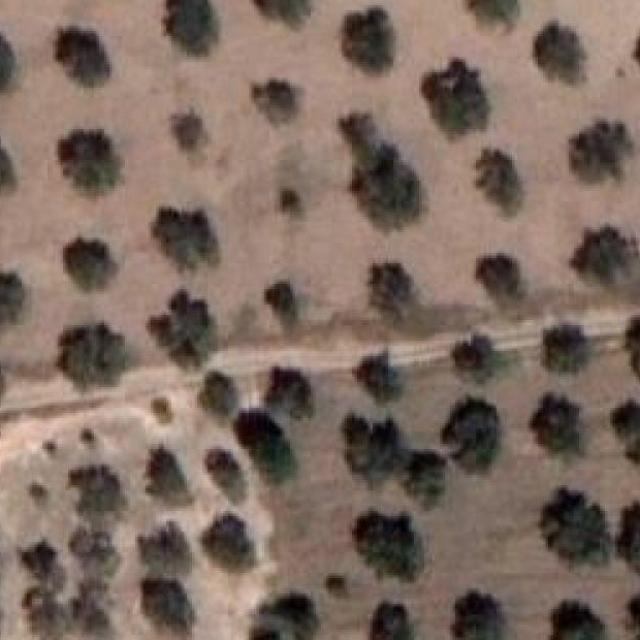Tree: (352, 154, 426, 228), (352, 506, 428, 578), (336, 416, 406, 491), (55, 320, 129, 389), (439, 395, 502, 474), (236, 408, 298, 488), (424, 62, 490, 136), (58, 129, 125, 197), (572, 225, 640, 292), (567, 116, 636, 182), (536, 489, 598, 559), (150, 207, 216, 270), (338, 5, 398, 72), (532, 24, 594, 86), (471, 251, 532, 312), (468, 152, 528, 214), (53, 24, 108, 91), (202, 514, 260, 576), (58, 235, 121, 292), (161, 0, 218, 59), (141, 578, 196, 639), (450, 588, 514, 640), (138, 444, 192, 505), (533, 396, 585, 458), (68, 460, 121, 520), (396, 447, 447, 509), (135, 521, 186, 580), (66, 578, 111, 640), (267, 364, 317, 415), (249, 75, 297, 128), (352, 351, 403, 400), (538, 322, 589, 371), (22, 586, 67, 640), (367, 256, 415, 305), (75, 530, 124, 578), (447, 335, 494, 384), (551, 598, 605, 640), (169, 108, 210, 163), (249, 0, 316, 33), (271, 591, 319, 637), (202, 444, 258, 482), (0, 274, 33, 334), (460, 0, 522, 31), (370, 598, 414, 640), (342, 114, 389, 152), (615, 499, 640, 569), (0, 138, 26, 202), (264, 277, 300, 319), (174, 289, 213, 326), (0, 28, 20, 100), (620, 315, 640, 374), (200, 374, 233, 406), (146, 396, 182, 425), (144, 312, 174, 346), (168, 341, 204, 368), (318, 573, 352, 599), (615, 401, 640, 436), (25, 544, 47, 578), (625, 590, 640, 639), (280, 186, 302, 219), (617, 441, 640, 468), (0, 354, 12, 404), (22, 483, 44, 508), (251, 626, 290, 640), (42, 437, 65, 456), (81, 426, 94, 444)
